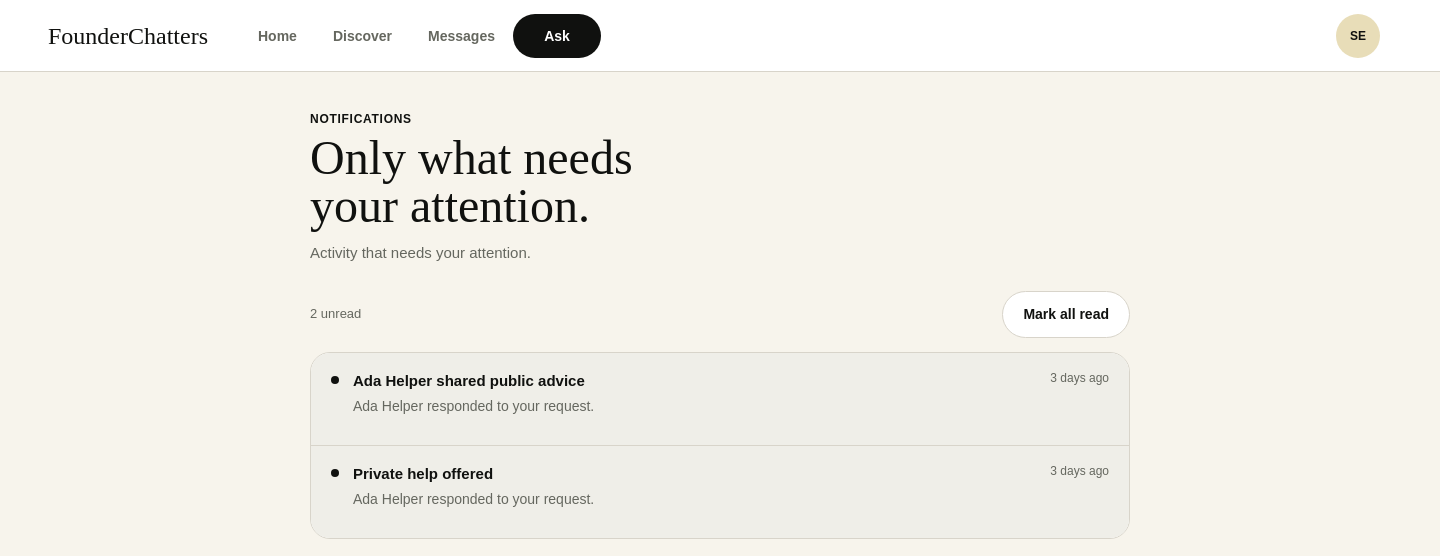
Scenario: FC-015 notifications › marks all unread notifications read
The image size is (1440, 556).
Expected: the text "2 unread" is shown, [310,306,361,323]
Click the button "Mark all read" at (1066, 315), box [1002,291,1130,338]
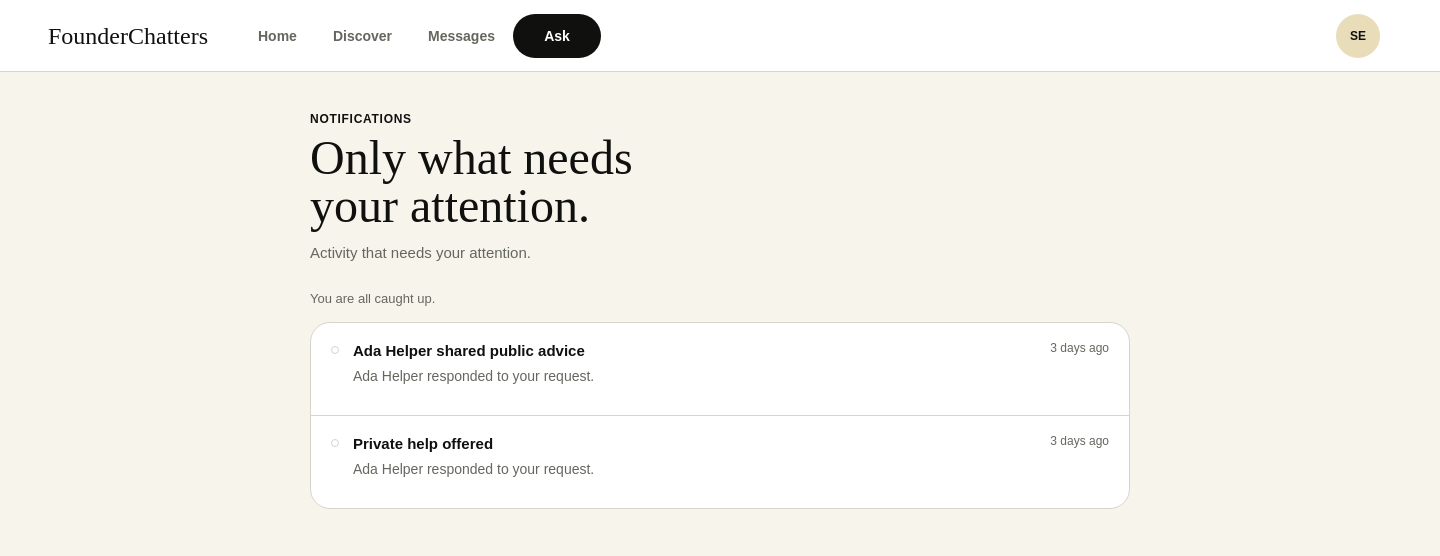
Expected: the text "You are all caught up." is shown, [310,291,435,308]
